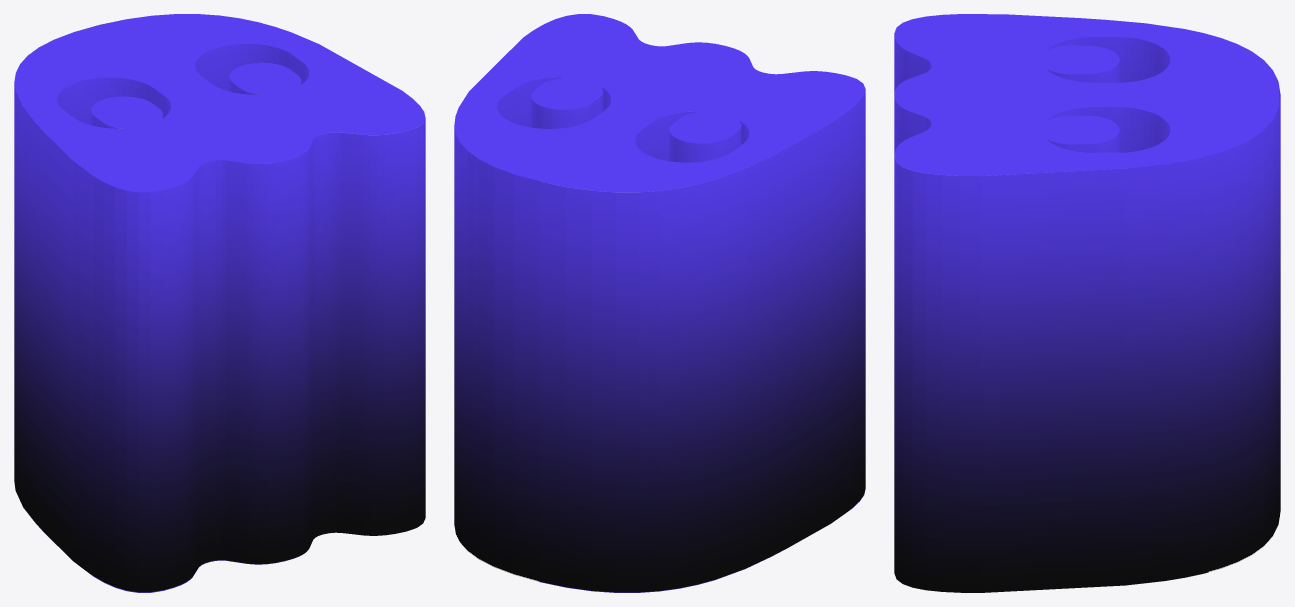
The model's file is ghost5.gltf.
3 renders of one model, left to right at view 1: azimuth 30°, elevation 25°; view 2: azimuth 150°, elevation 25°; view 3: azimuth 270°, elevation 25°, orthographic. The views are drawn at different scales.
Parts seen in each view (by area): view 1: Curve; view 2: Curve; view 3: Curve.
Boxes of the visible parts, bbox=[...] form: Curve: bbox=[14, 14, 425, 592]; Curve: bbox=[454, 14, 865, 592]; Curve: bbox=[894, 14, 1280, 592].
Bounding box in the file's own units: 1.58 × 1.9 × 1.6.
Materials: 1 (1 with a texture image).
